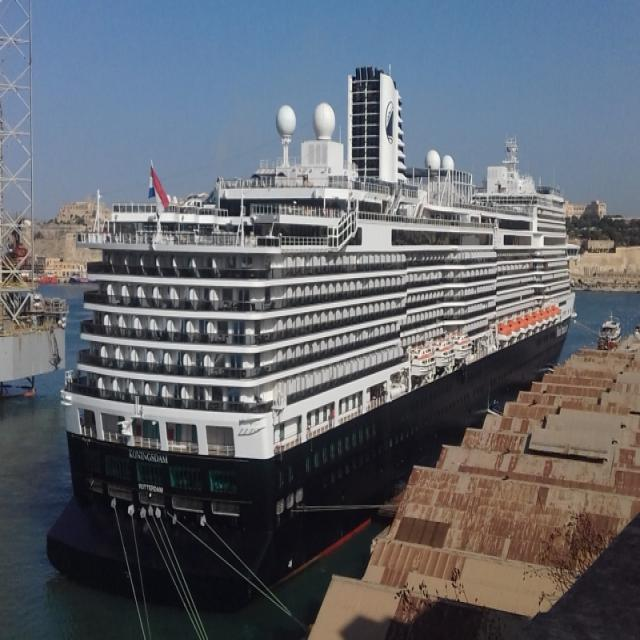cruises: (54, 59, 579, 596)
